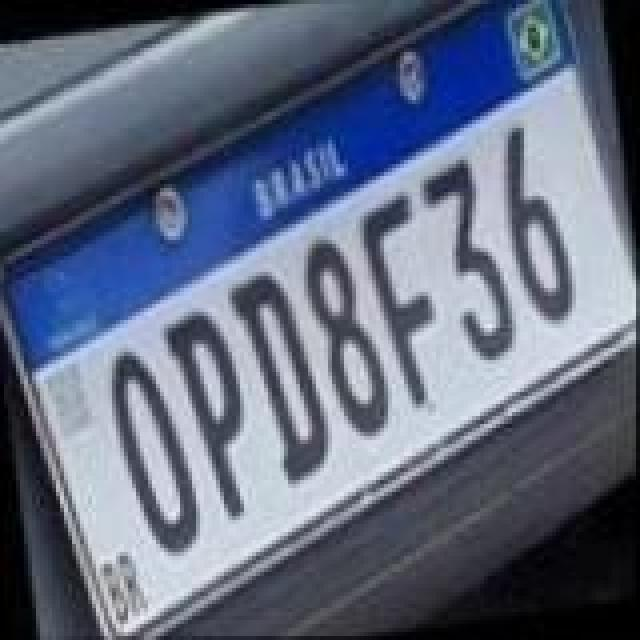3: (416, 148, 520, 364)
6: (492, 114, 576, 326)
8: (292, 226, 392, 442)
D: (224, 262, 336, 490)
F: (356, 186, 448, 414)
O: (102, 340, 206, 560)
P: (160, 302, 260, 526)
